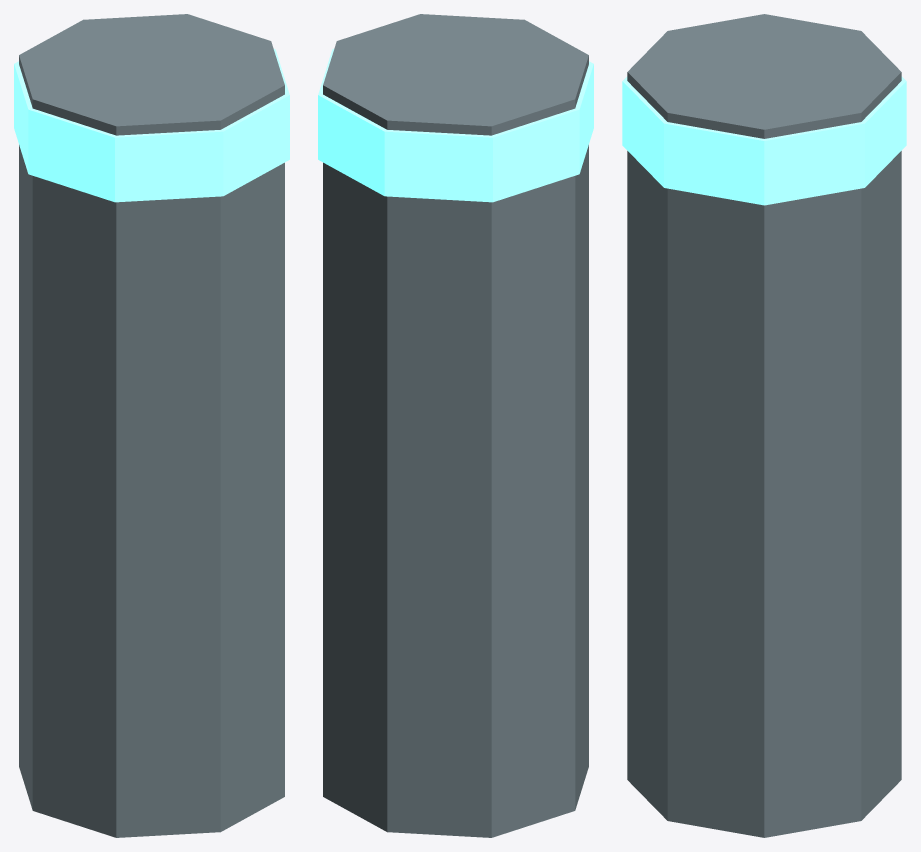
File: prop_bollard_LOD0.glb
3 views of the same model, side by side, from view 1: azimuth 30°, elevation 25°; view 2: azimuth 150°, elevation 25°; view 3: azimuth 270°, elevation 25° (orthographic).
Visible parts, largest first — view 1: prop_bollard__surface; view 2: prop_bollard__surface; view 3: prop_bollard__surface.
Boxes of the visible parts, left/top/right/bottom form: prop_bollard__surface: left=14, top=14, right=289, bottom=837; prop_bollard__surface: left=318, top=14, right=593, bottom=837; prop_bollard__surface: left=622, top=14, right=906, bottom=837.
Bounding box in the file's own units: 0.28 × 0.77 × 0.28.
